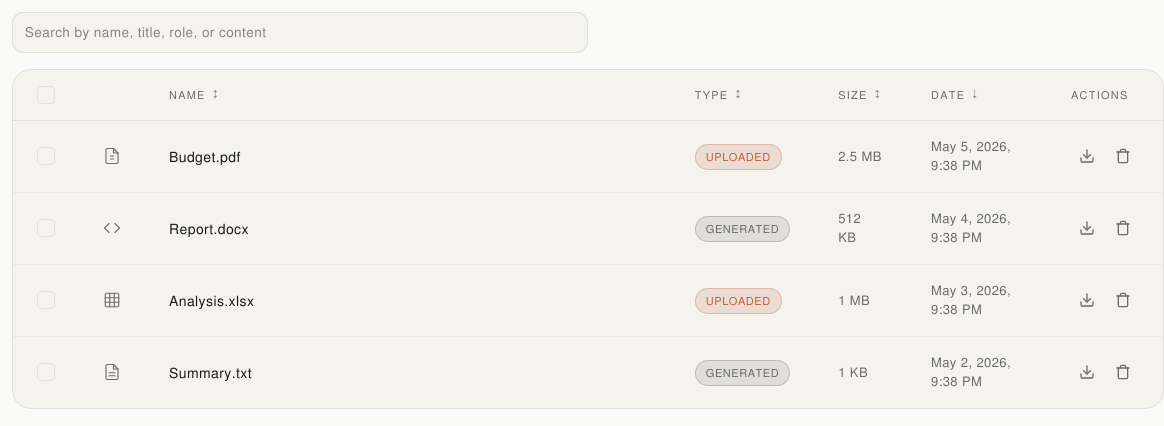
DocumentsList › Search And Sorting › filters documents by search query
Type "report" into the search field named "search documents" at (300, 32), box [12, 12, 588, 53]
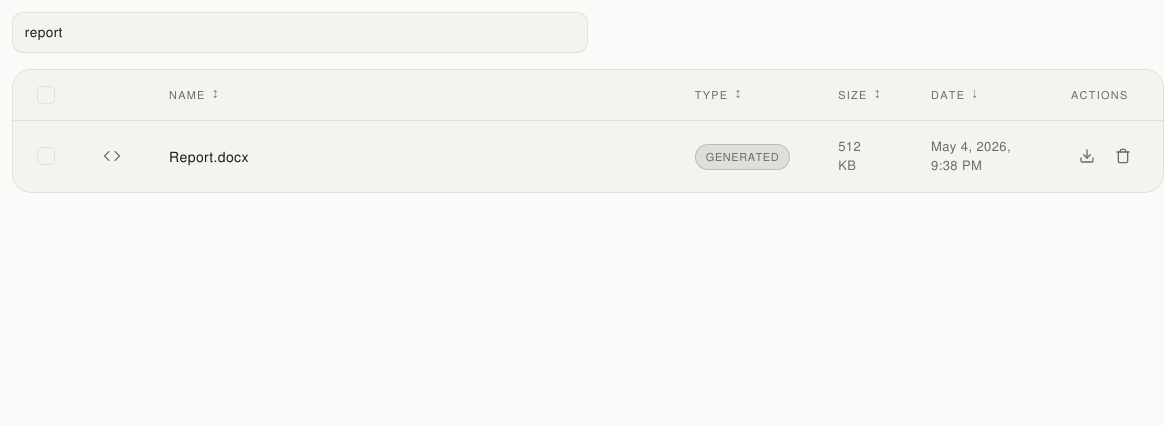
Expected: the text "Report.docx" is shown, [169, 148, 249, 165]
Now the text "Budget.pdf" is gone
Now the text "Analysis.xlsx" is gone
